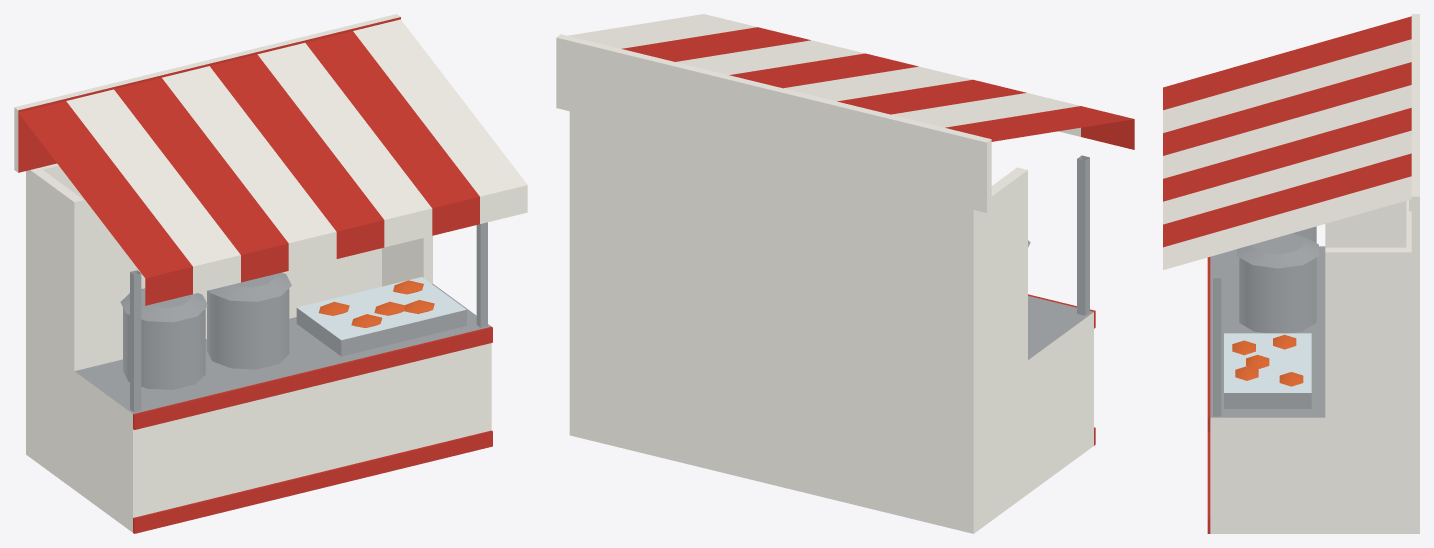
File: sf_crab_stand.glb
The picture shows the model from 3 angles, left to right: view 1: azimuth 30°, elevation 25°; view 2: azimuth 150°, elevation 25°; view 3: azimuth 270°, elevation 25°; orthographic projection. The views are drawn at different scales.
Visible parts, largest first — view 1: sf_crab_stand; view 2: sf_crab_stand; view 3: sf_crab_stand.
Part boxes in pixels (bbox=[...]): sf_crab_stand: bbox=[14, 14, 527, 533]; sf_crab_stand: bbox=[556, 14, 1134, 533]; sf_crab_stand: bbox=[1163, 14, 1419, 533].
Bounding box in the file's own units: 3.2 × 2.8 × 1.9.
1 material, 1 textured.
